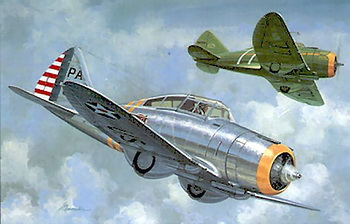airplane: (7, 47, 323, 214), (185, 11, 344, 108)
